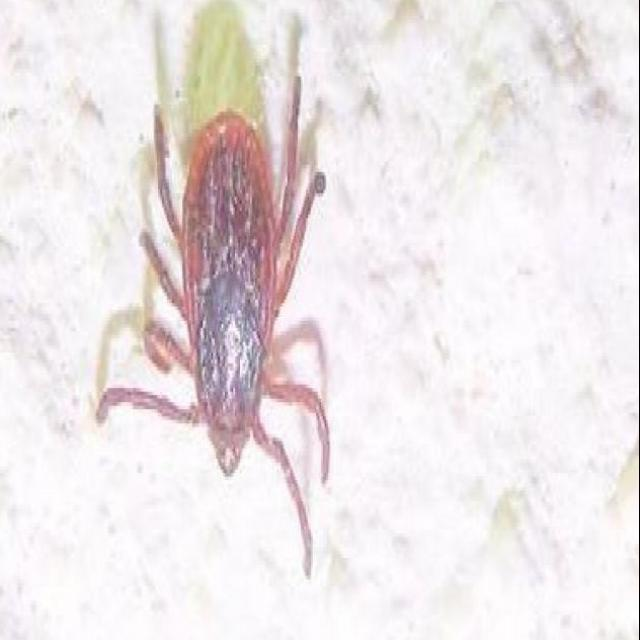Rhipicephalus Sanguineus-F: (90, 73, 332, 579)
